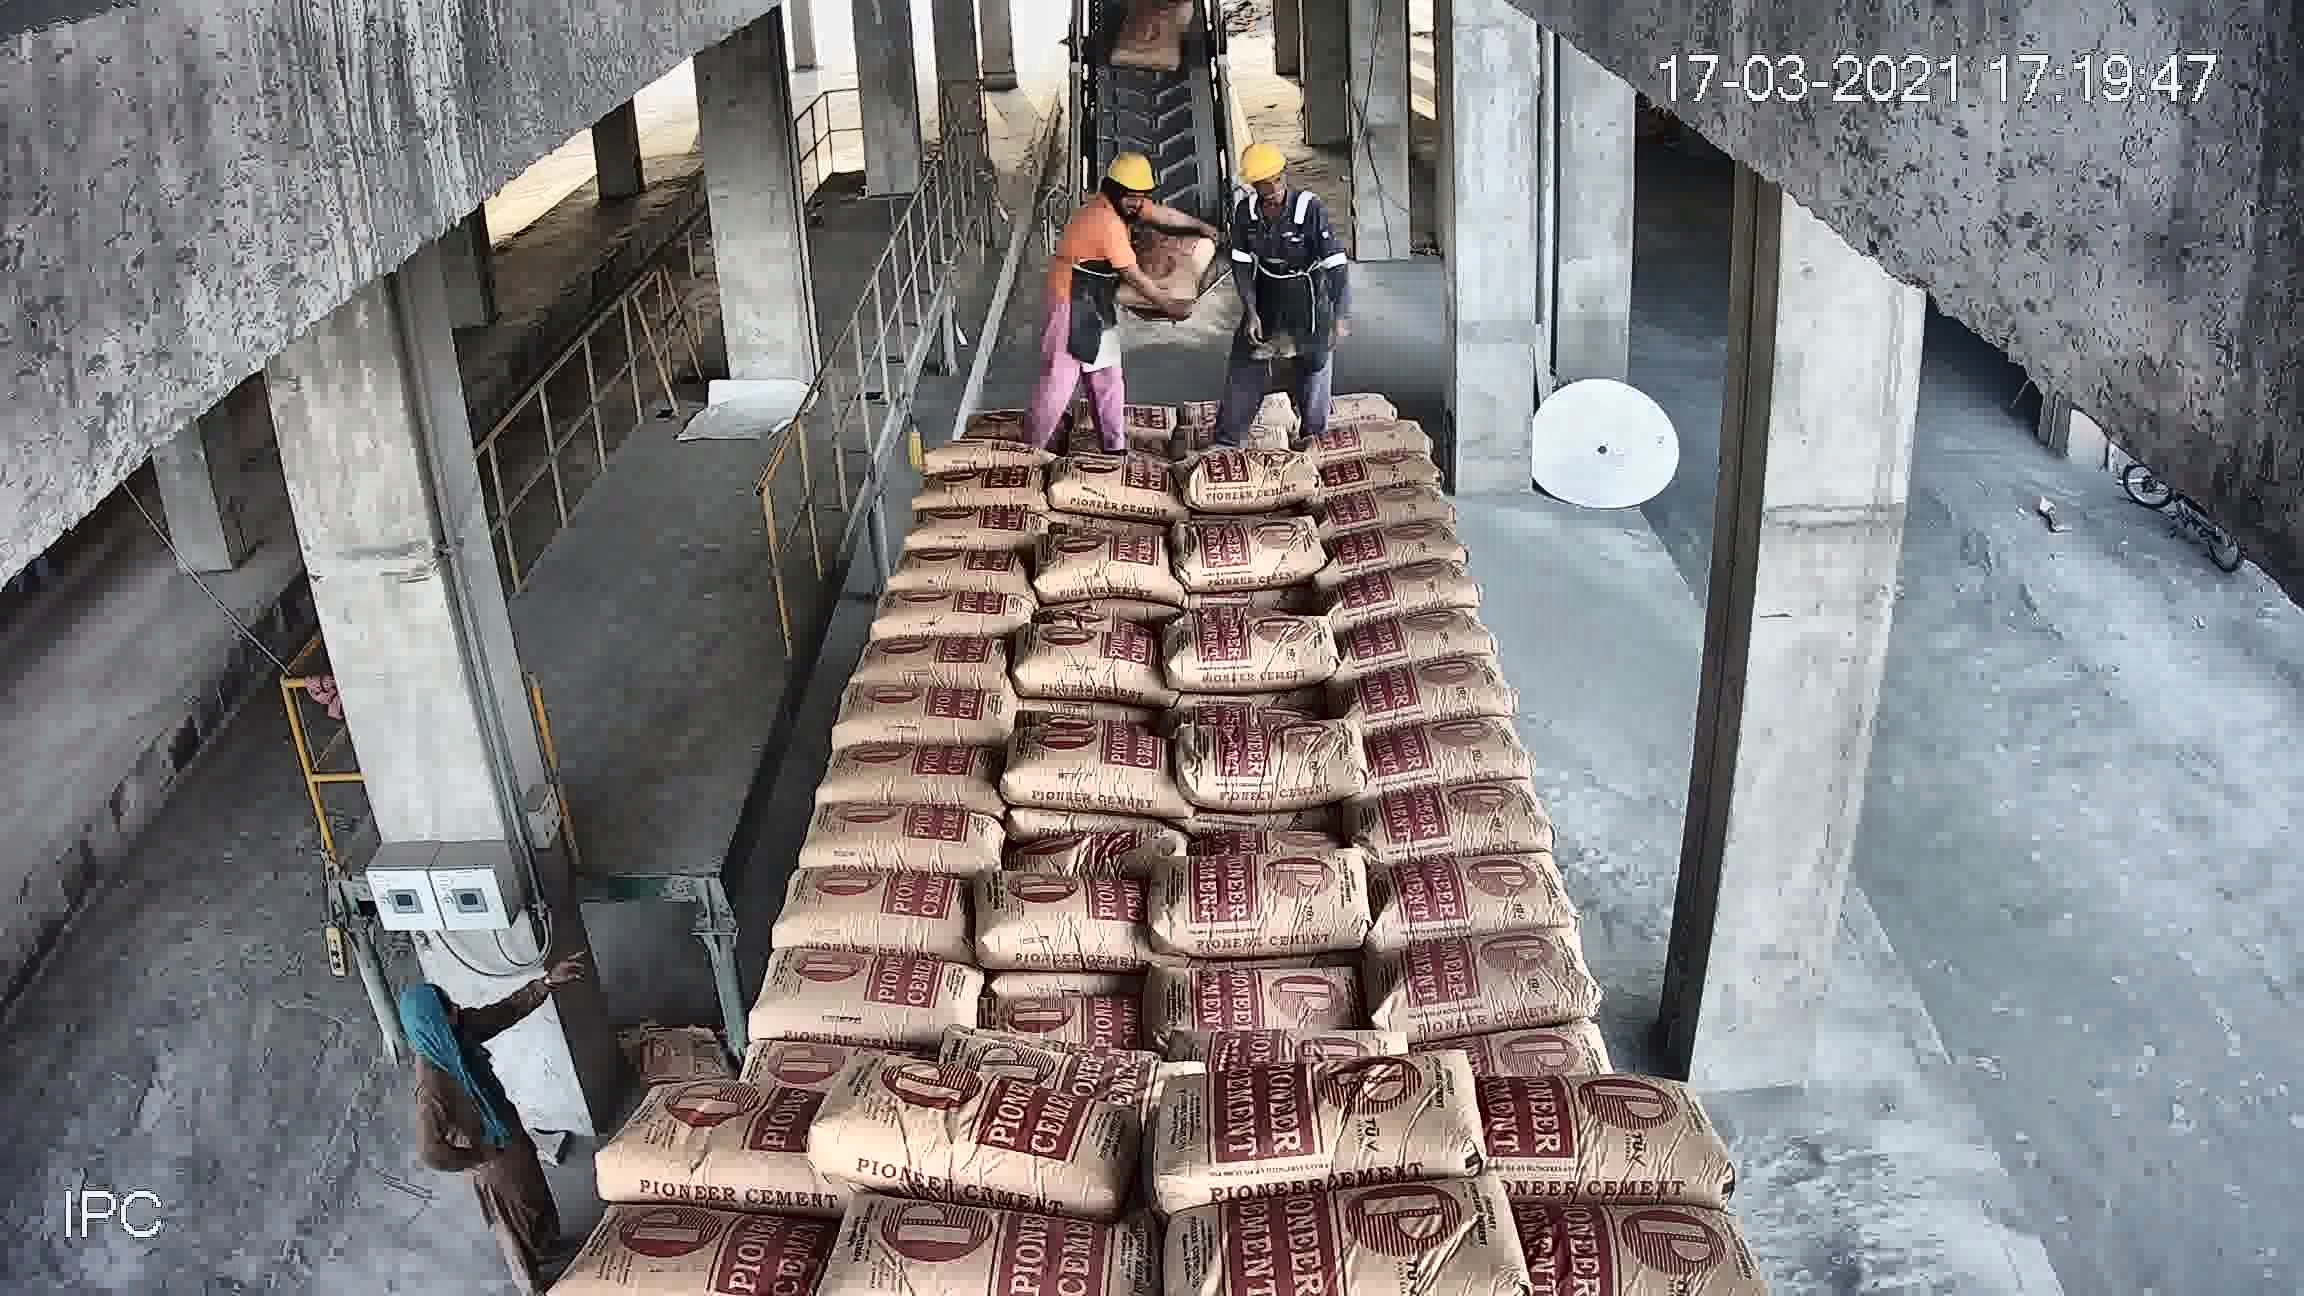bag: (1106, 438, 1249, 639), (1078, 14, 1214, 98)
bag_h: (1119, 1044, 1476, 1212), (794, 1079, 1165, 1204), (1465, 1059, 1720, 1217), (820, 1192, 1188, 1296), (1141, 1180, 1506, 1279), (603, 1063, 826, 1207), (1168, 927, 1416, 1040), (529, 1199, 828, 1290), (1489, 1211, 1769, 1285), (938, 1019, 1201, 1092), (771, 859, 938, 957), (1155, 786, 1367, 862), (739, 953, 894, 1046), (1155, 853, 1326, 934), (1339, 544, 1495, 631), (1190, 726, 1362, 794), (793, 809, 946, 877), (817, 741, 949, 815), (821, 680, 951, 752), (1287, 385, 1421, 437), (1337, 521, 1454, 579), (722, 1036, 848, 1079), (853, 597, 949, 646), (847, 639, 949, 680), (1302, 347, 1415, 373), (1315, 312, 1397, 345)
belt: (1003, 40, 1313, 642)
